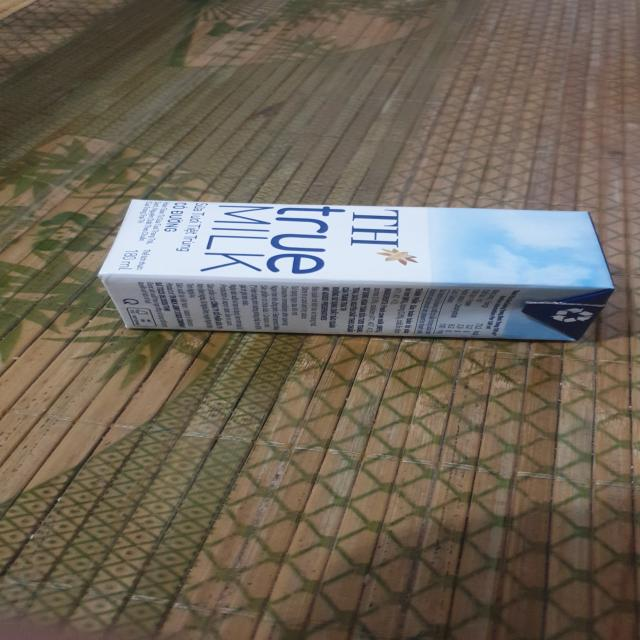TH: (97, 199, 616, 345)
